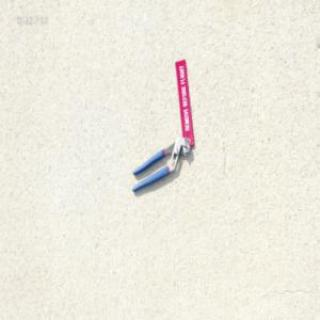LuggageTagtrack_idkeyframe: (175, 57, 195, 145)
Pliertrack_idkeyframe: (131, 134, 190, 193)
